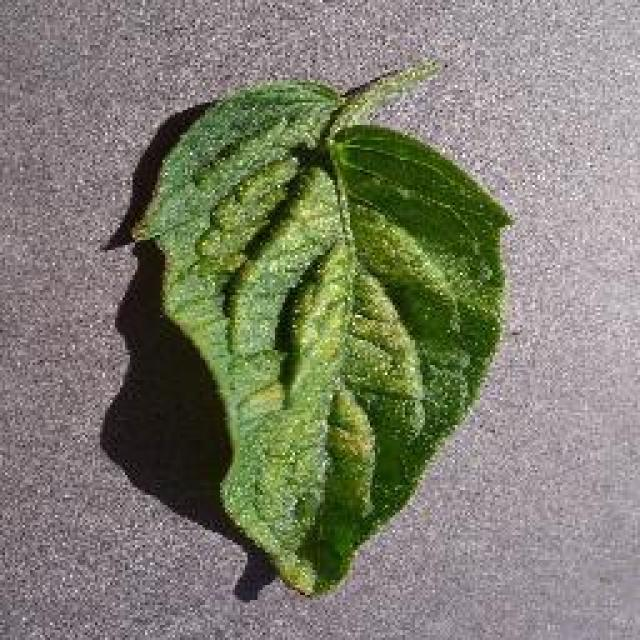Tomato___Spider_mites Two-spotted_spider_mite: (130, 62, 508, 592)
